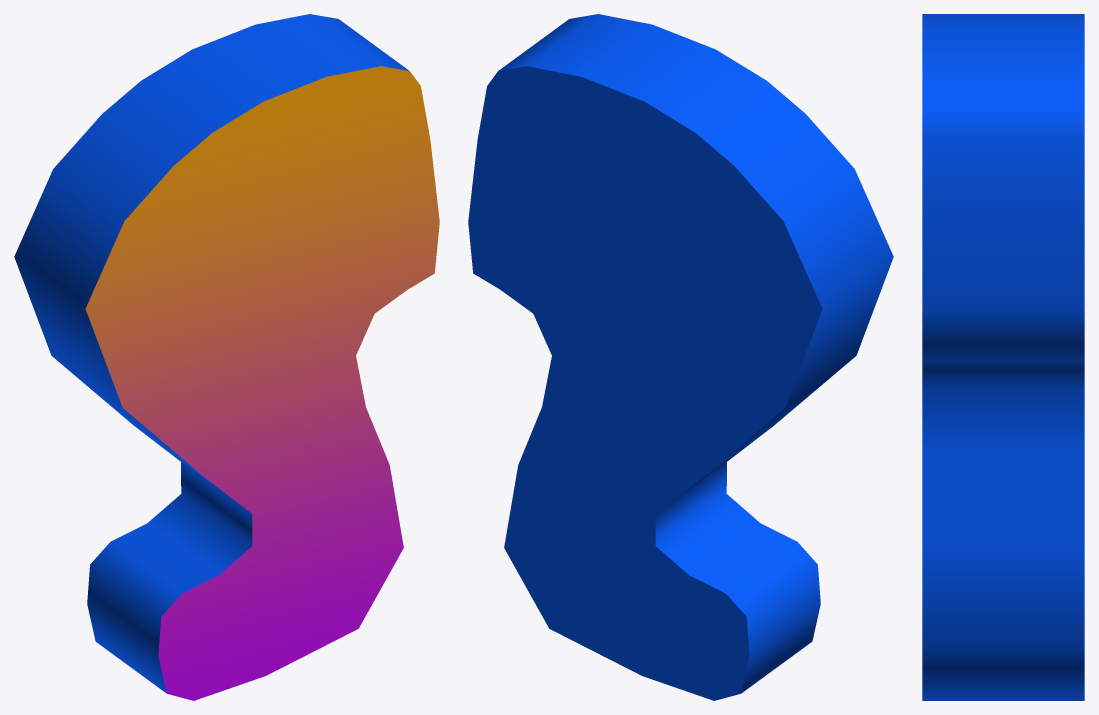
The picture shows the model from 3 angles, left to right: view 1: azimuth 30°, elevation 25°; view 2: azimuth 150°, elevation 25°; view 3: azimuth 270°, elevation 25°; orthographic projection. The views are drawn at different scales.
Parts seen in each view (by area): view 1: S; view 2: S; view 3: S.
Boxes of the visible parts, bbox=[...] form: S: bbox=[14, 14, 439, 700]; S: bbox=[468, 14, 893, 700]; S: bbox=[922, 14, 1084, 700].
Bounding box in the file's own units: 57.42 × 91.65 × 20.
Materials: 2 (1 with a texture image).
